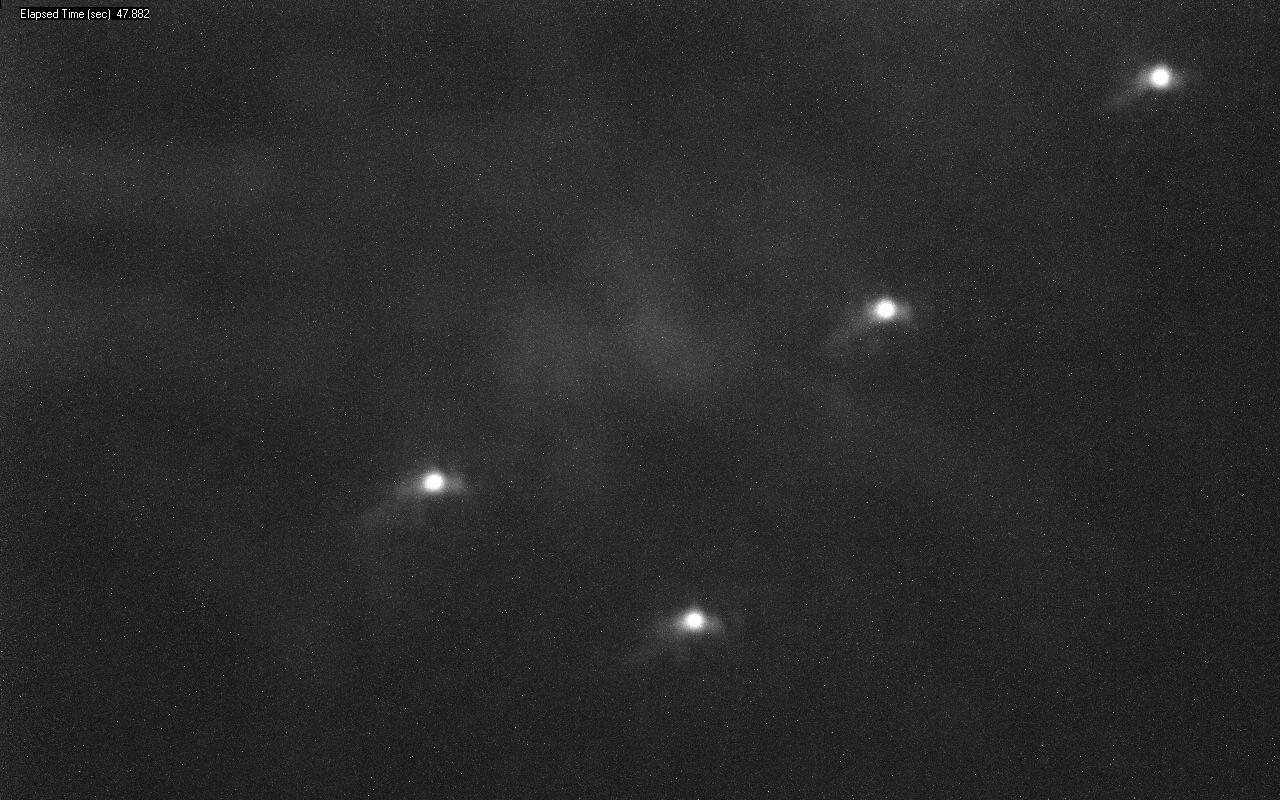Bead: (1139, 64, 1184, 92), (865, 295, 907, 324), (423, 470, 460, 493)
